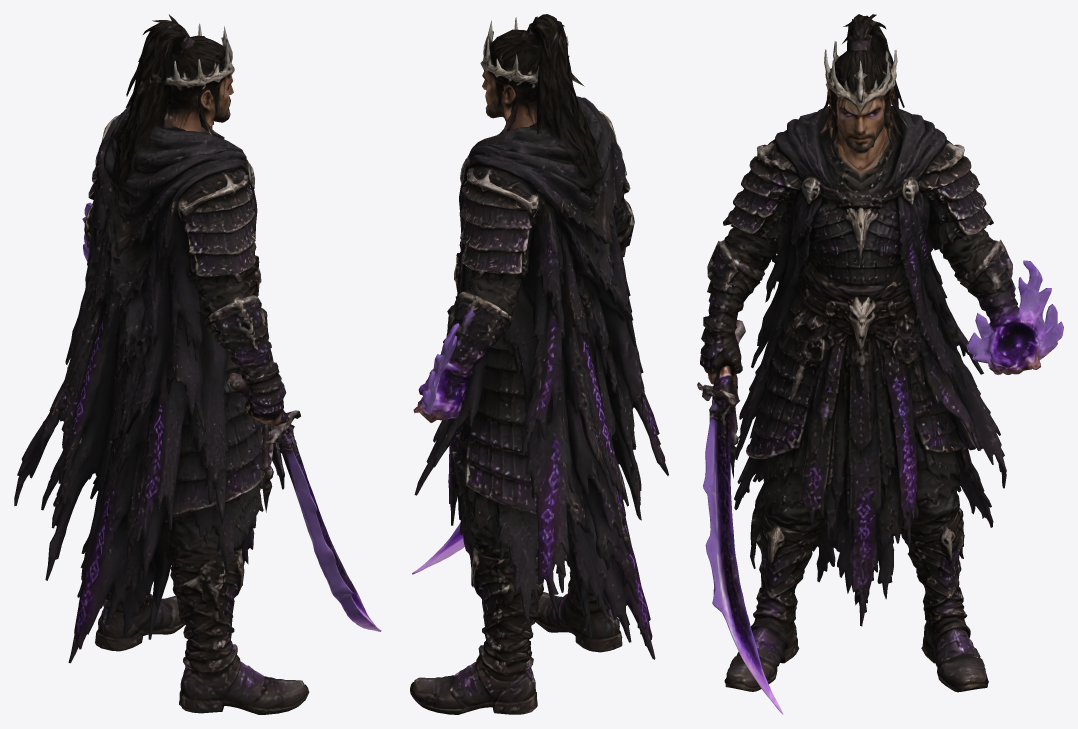
The model's file is wraithsworn-GraveWarden-tripo.glb.
3 views of the same model, side by side, from view 1: azimuth 30°, elevation 25°; view 2: azimuth 150°, elevation 25°; view 3: azimuth 270°, elevation 25° (orthographic). The views are drawn at different scales.
Parts seen in each view (by area): view 1: tripo_node_98735328-23d7-40be-8b25-cd6a57188e7f; view 2: tripo_node_98735328-23d7-40be-8b25-cd6a57188e7f; view 3: tripo_node_98735328-23d7-40be-8b25-cd6a57188e7f.
Boxes of the visible parts, x1,y1,x2,y2 form: tripo_node_98735328-23d7-40be-8b25-cd6a57188e7f: (14, 14, 381, 714); tripo_node_98735328-23d7-40be-8b25-cd6a57188e7f: (410, 14, 668, 714); tripo_node_98735328-23d7-40be-8b25-cd6a57188e7f: (697, 14, 1063, 714).
Bounding box in the file's own units: 0.4467 × 1 × 0.5139.
Materials: 1 (1 with a texture image).
